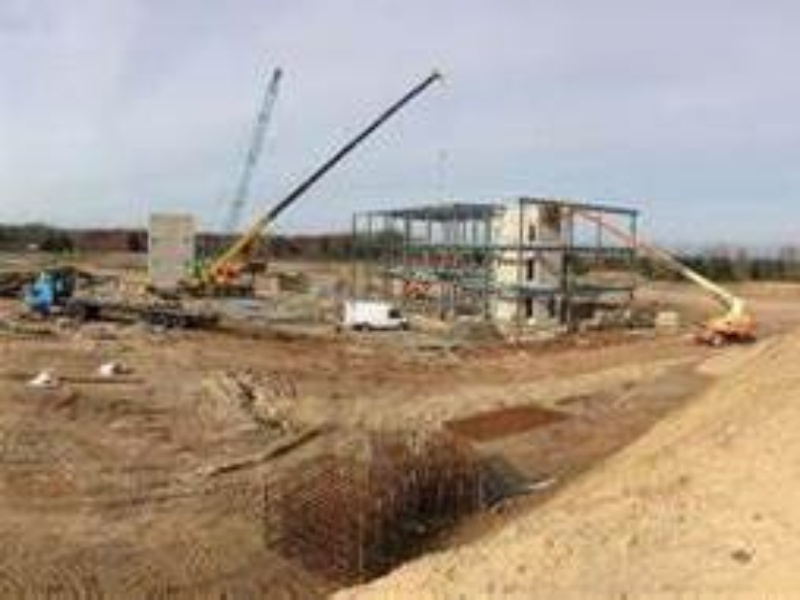crane: (173, 63, 449, 303), (570, 203, 762, 349)
vehicle: (22, 264, 220, 329), (338, 303, 413, 334)
